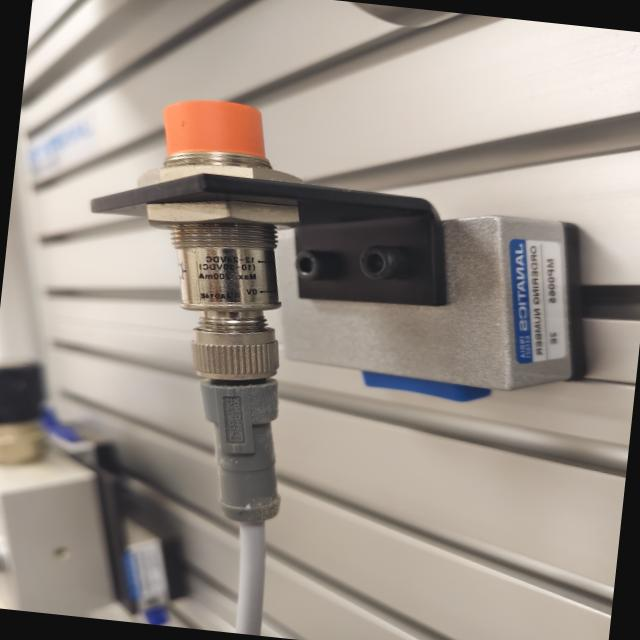inductive sensor: (53, 75, 600, 558)
